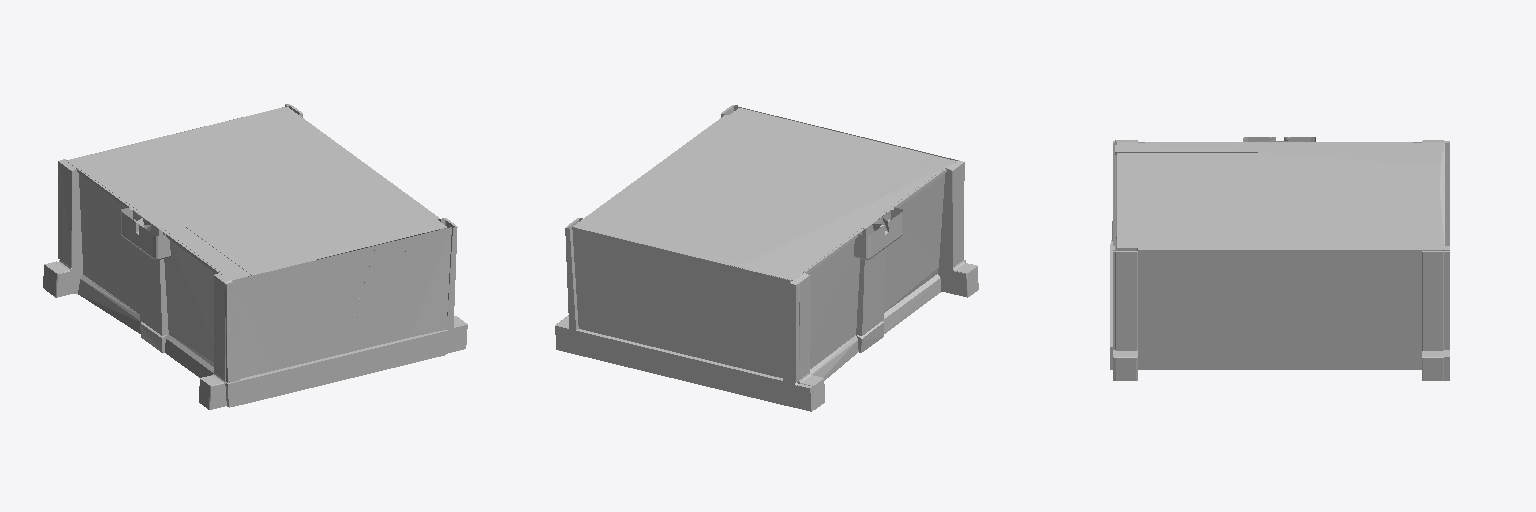
File: BoxBody.obj
The picture shows the model from 3 angles: view 1: azimuth 30°, elevation 25°; view 2: azimuth 150°, elevation 25°; view 3: azimuth 270°, elevation 25°; orthographic projection.
Visible parts, largest first — view 1: BoxBody; view 2: BoxBody; view 3: BoxBody.
Boxes of the visible parts, <box> form: BoxBody: <box>43,104,467,409</box>; BoxBody: <box>555,105,978,411</box>; BoxBody: <box>1110,137,1449,380</box>.
Size of the model in its own units: 1.43 by 0.6809 by 1.63.